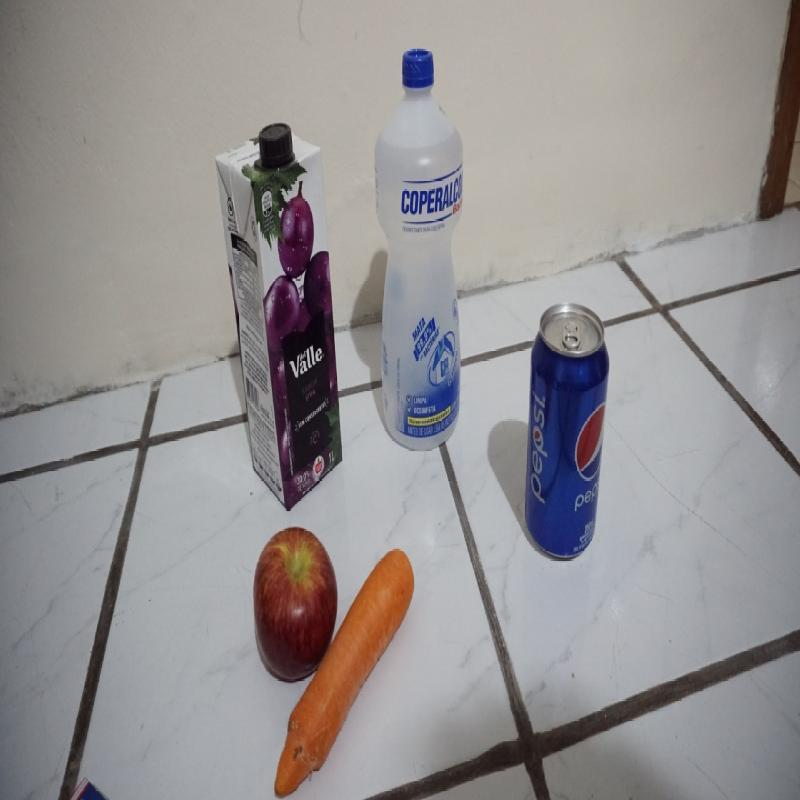Alcohol Bottle: (373, 47, 466, 456)
Apple: (251, 524, 340, 688)
Carrot: (273, 547, 416, 797)
Gelatine: (60, 776, 110, 797)
Soda can: (521, 302, 610, 568)
